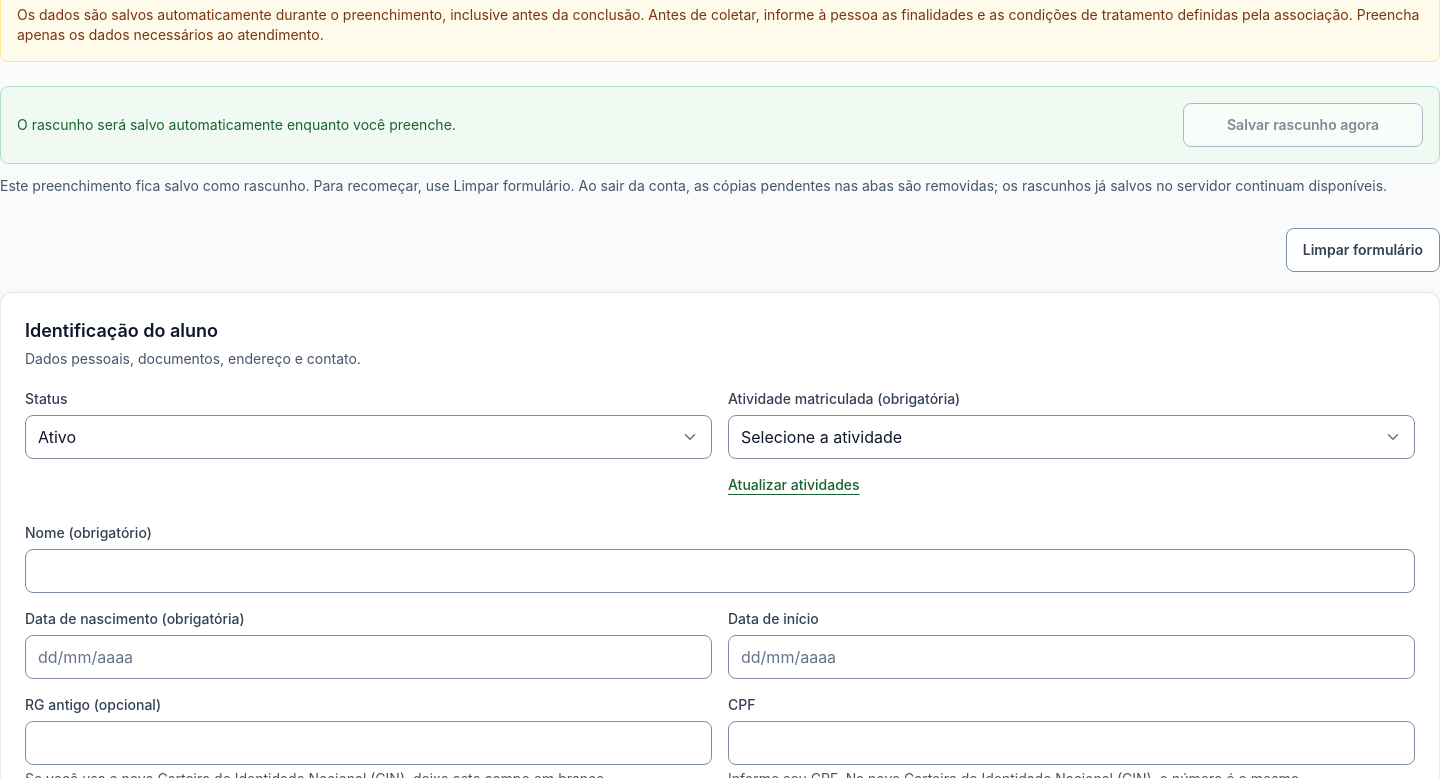
Test: RF15–RF18: student › só limpa dados, erros e integrantes após confirmar o descarte
Type "Nome preservado" into the field labelled "Nome (obrigatório)" at x=720, y=571, box top-left (25, 549), bottom-right (1415, 593)
(page scrolled)
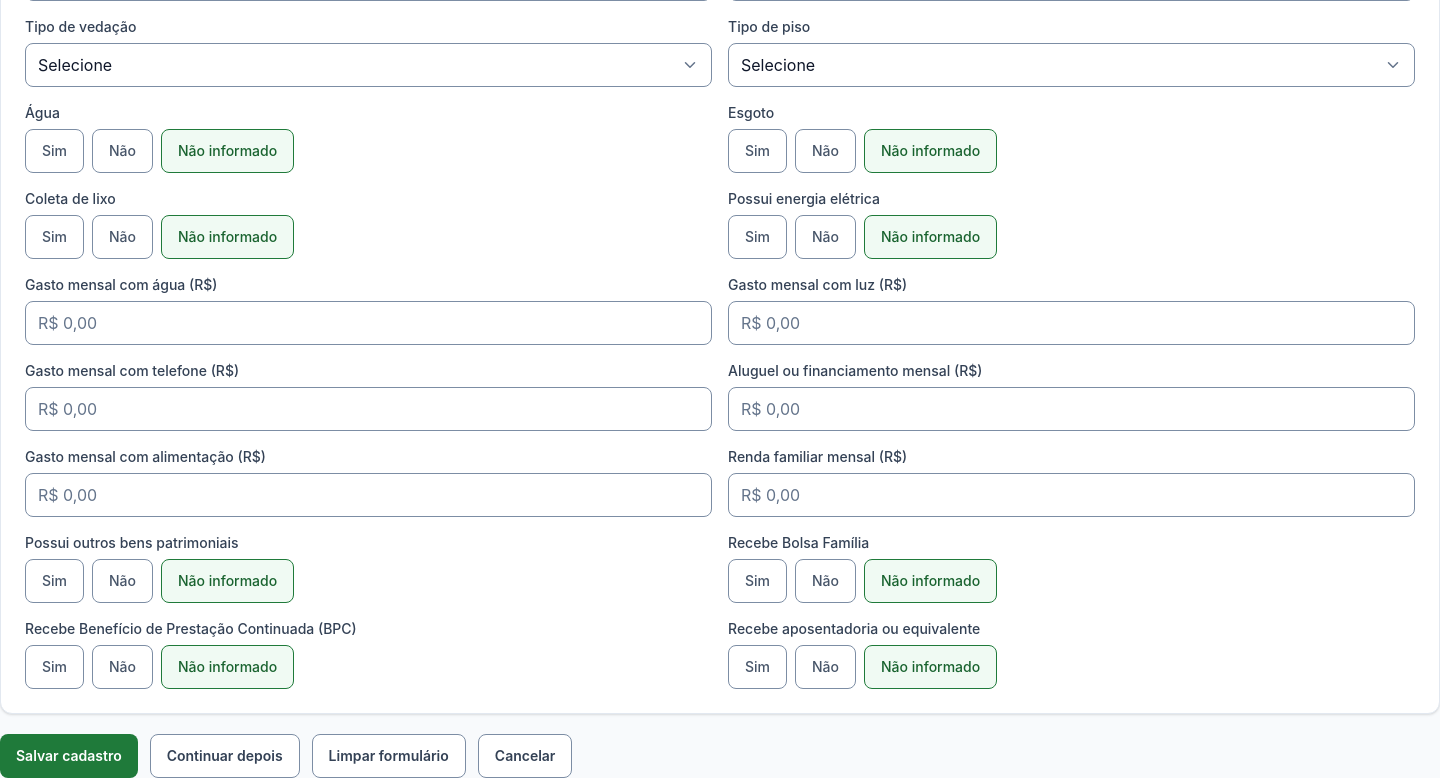
Click the button "Limpar formulário" at x=389, y=756, box top-left (312, 734), bottom-right (466, 777)
(page scrolled)
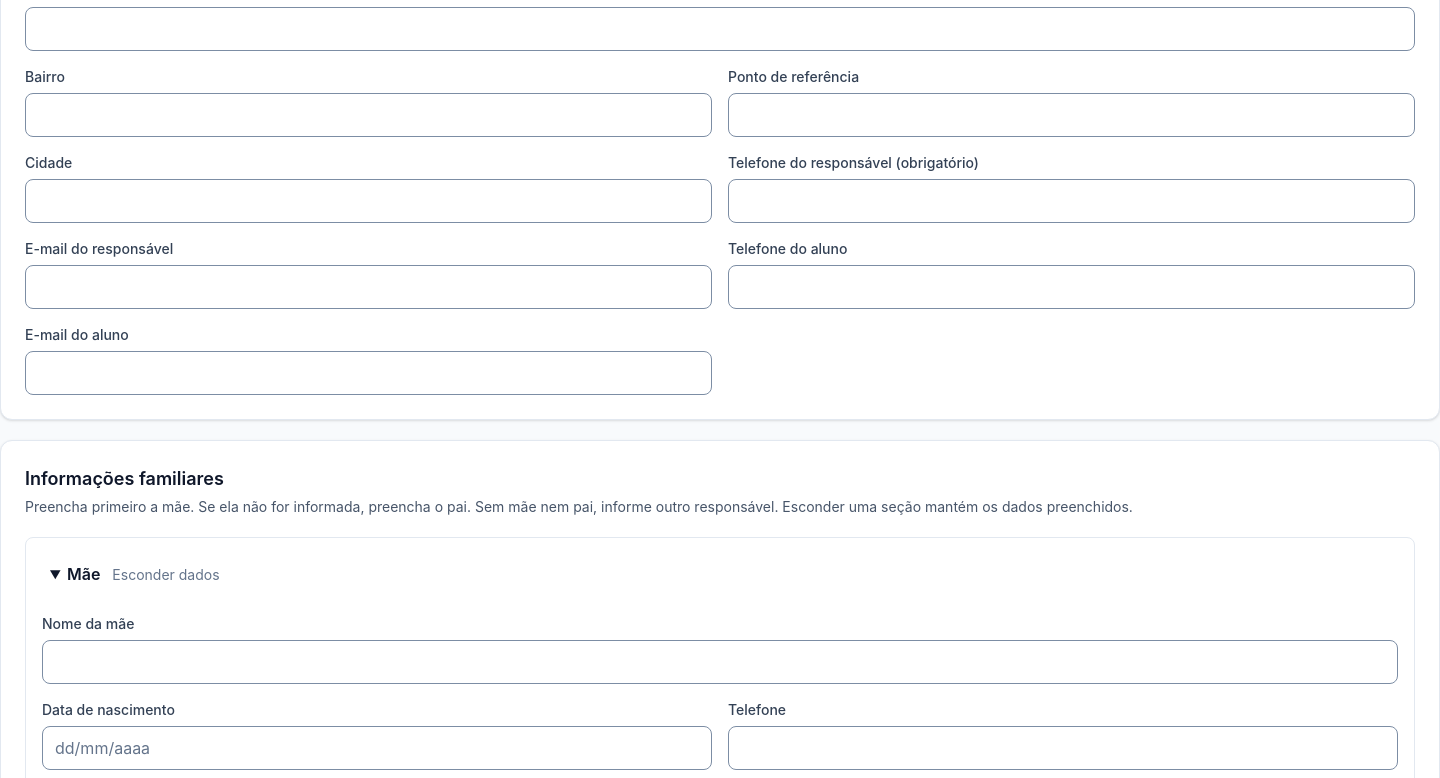
Type "inválido" into the field labelled "E-mail do aluno" at x=368, y=373, box top-left (25, 351), bottom-right (712, 395)
(page scrolled)
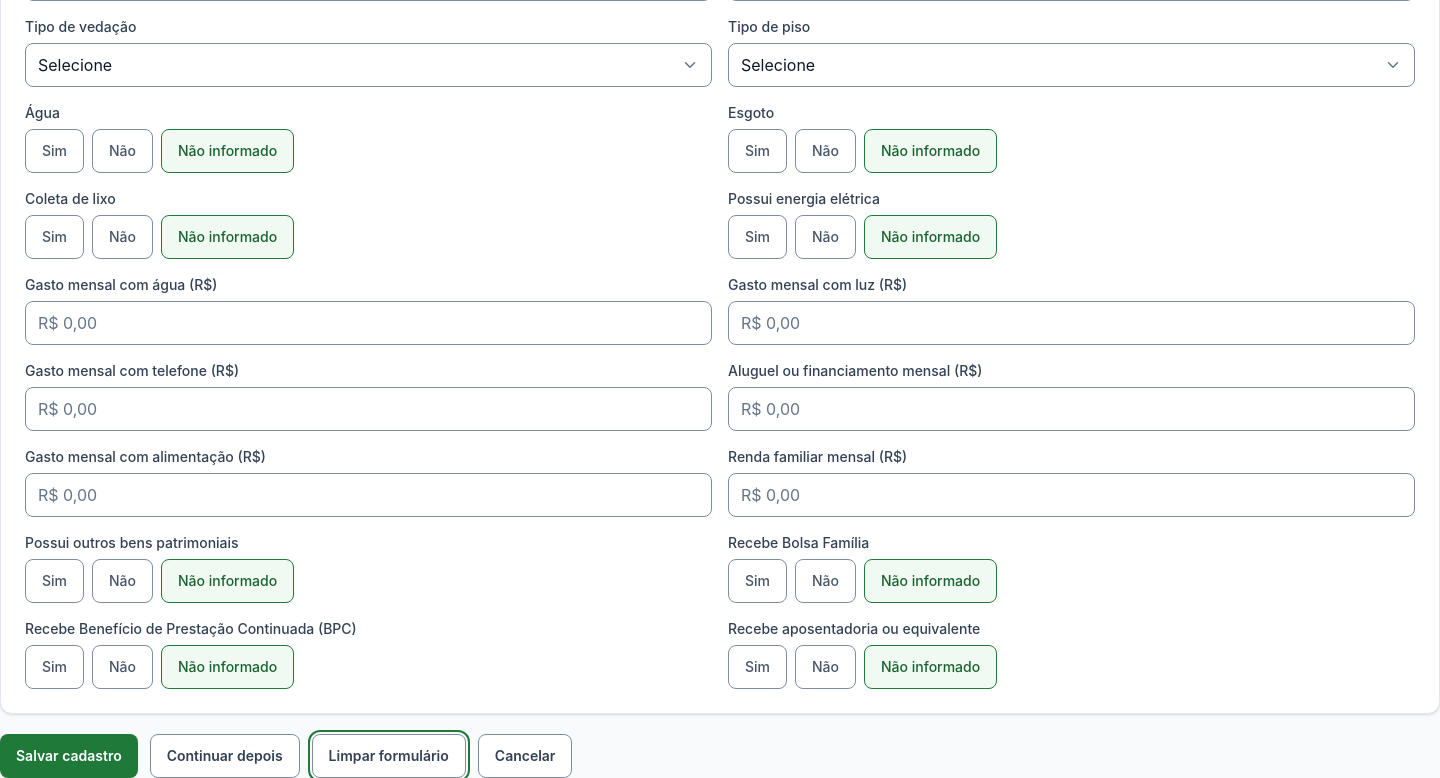
Click the button "Salvar cadastro" at x=69, y=756, box top-left (0, 734), bottom-right (138, 777)
(page scrolled)
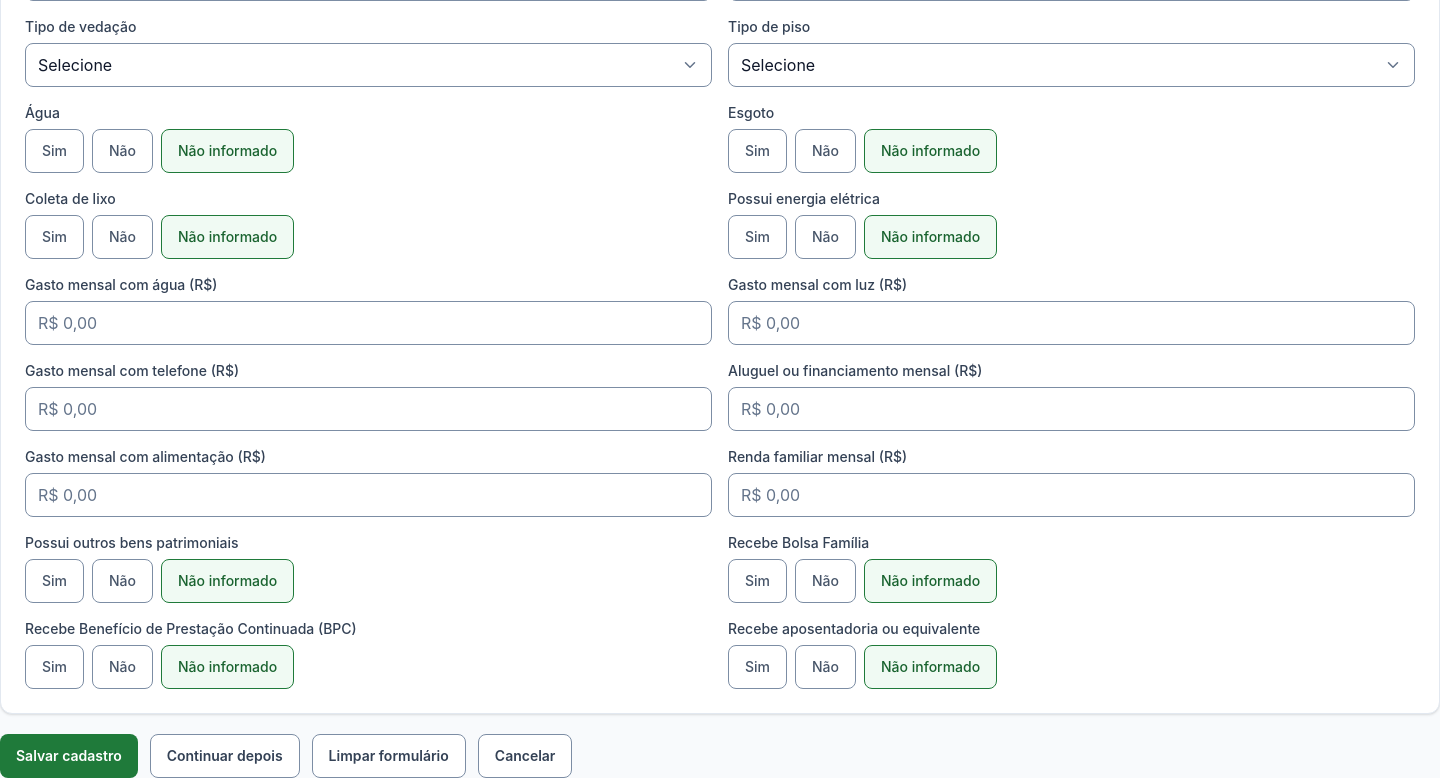
Click the button "Limpar formulário" at x=389, y=756, box top-left (312, 734), bottom-right (466, 777)
(page scrolled)
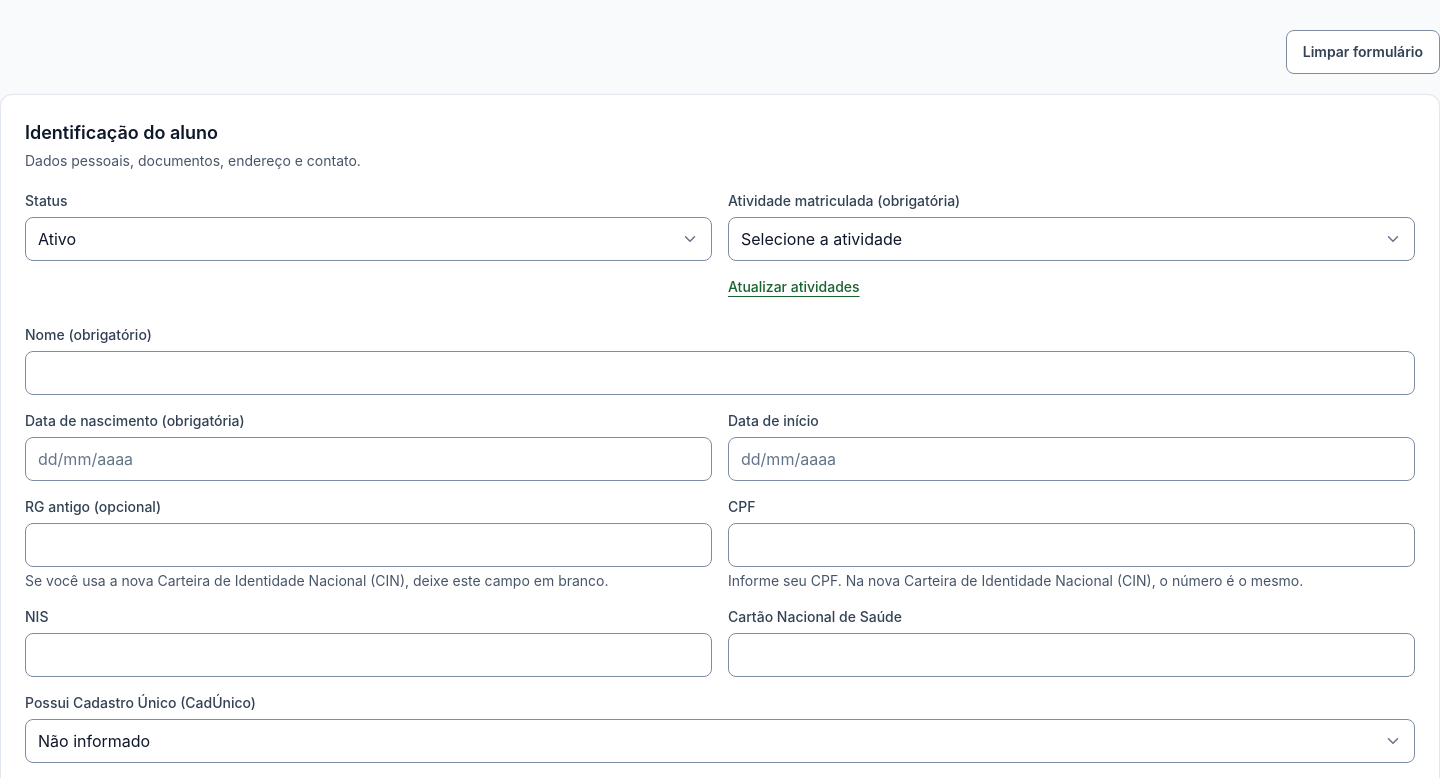
Expected: the field labelled "Nome (obrigatório)" is empty, top-left (25, 351), bottom-right (1415, 395)
